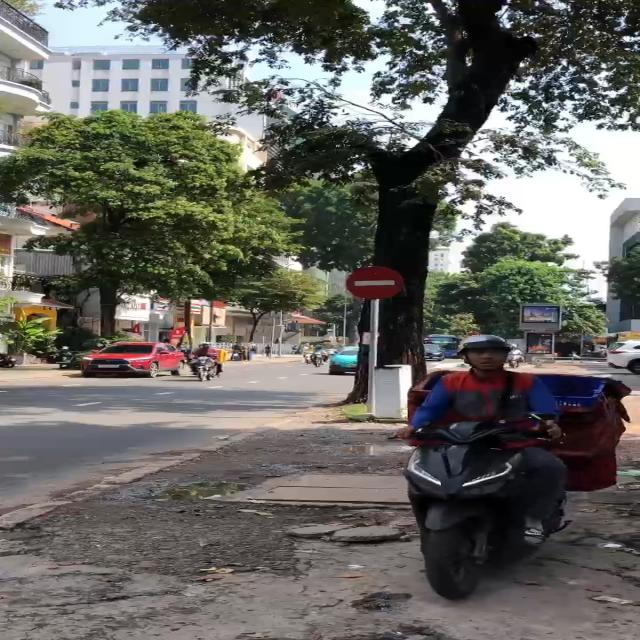Bien bao cam di nguoc chieu: (342, 262, 407, 303)
